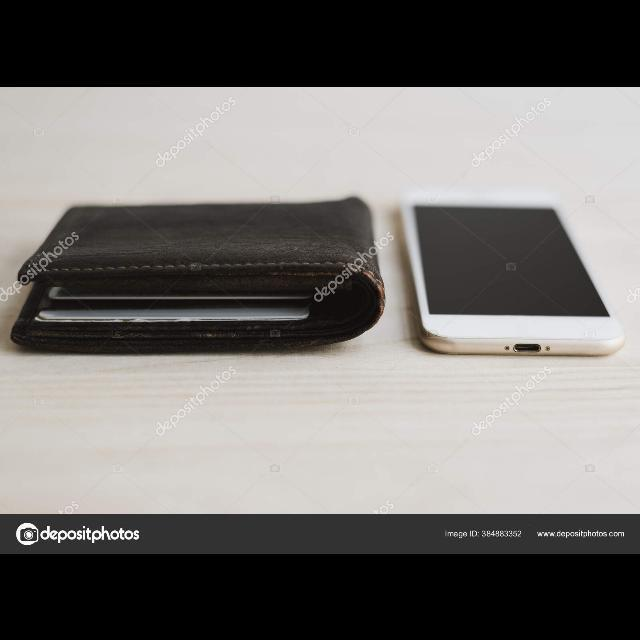wallet: (9, 192, 388, 368)
